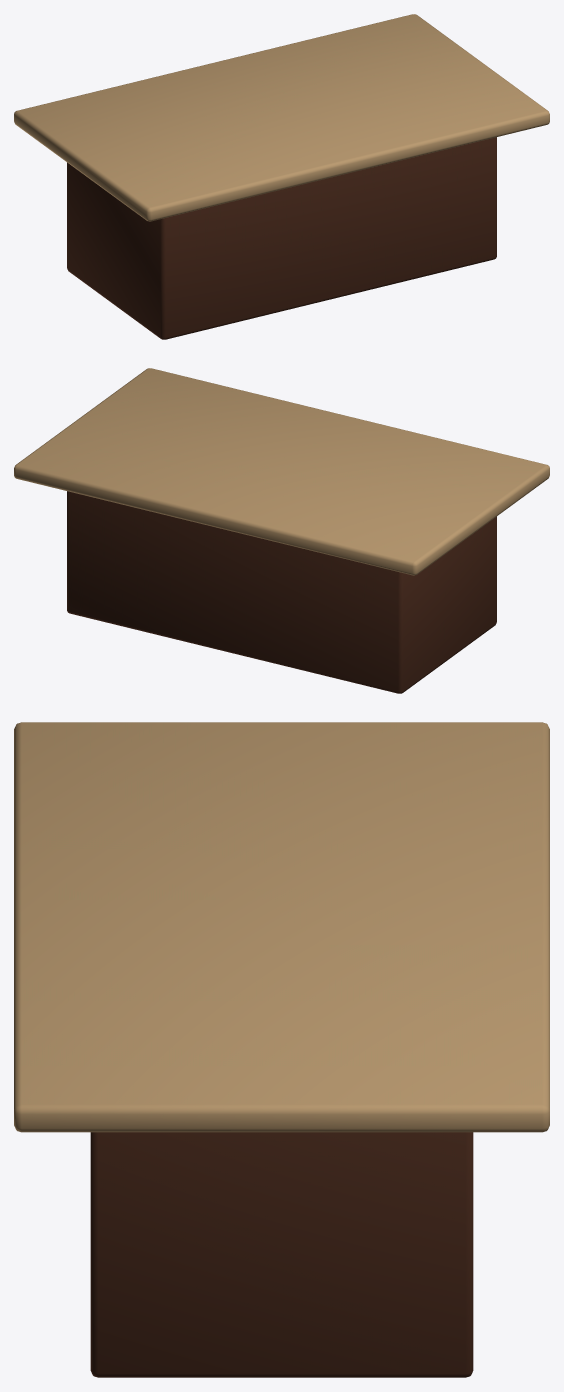
Rendered from fur_coffee_wood.glb.
The picture shows the model from 3 angles, top to bottom: view 1: azimuth 30°, elevation 25°; view 2: azimuth 150°, elevation 25°; view 3: azimuth 270°, elevation 25°; orthographic projection. The views are drawn at different scales.
Visible parts, largest first — view 1: FUR_coffee_wood; view 2: FUR_coffee_wood; view 3: FUR_coffee_wood.
Boxes of the visible parts, left/top/right/bottom form: FUR_coffee_wood: left=14, top=14, right=549, bottom=339; FUR_coffee_wood: left=14, top=368, right=549, bottom=693; FUR_coffee_wood: left=14, top=722, right=549, bottom=1377.
Bounding box in the file's own units: 1.2 × 0.44 × 0.7.
Materials: 1 (1 with a texture image).
